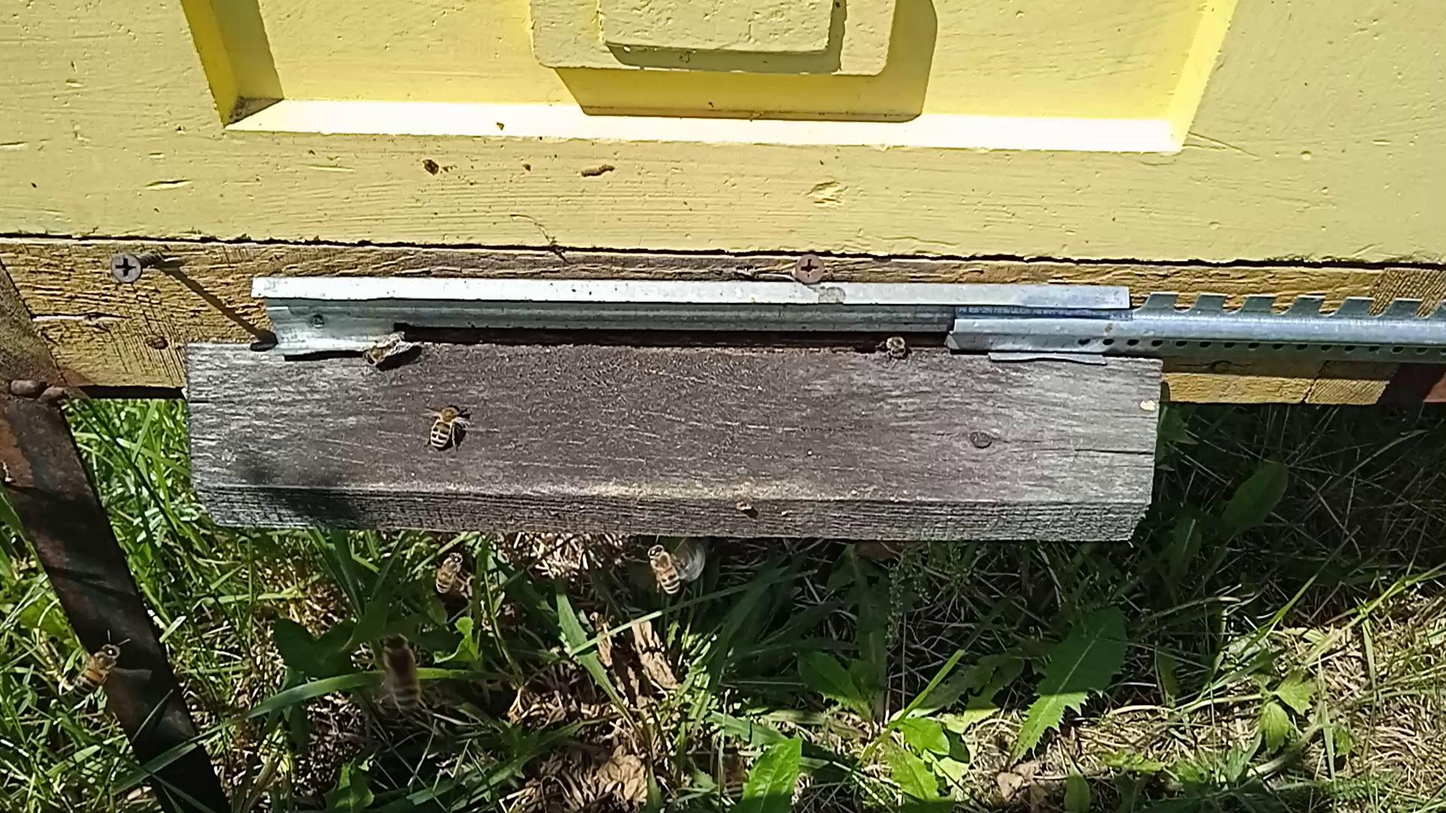worker-bee: (380, 633, 421, 714), (71, 642, 122, 699), (717, 742, 749, 807), (646, 543, 682, 596), (362, 329, 411, 366), (429, 402, 465, 449), (434, 549, 466, 595), (875, 332, 911, 361)
